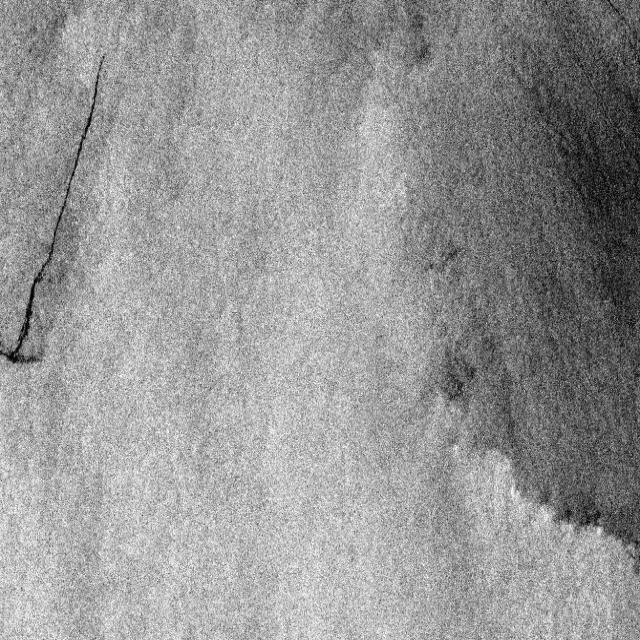look-alike: (540, 72, 638, 326), (418, 330, 488, 418), (558, 481, 616, 546)
oil-spill: (3, 48, 108, 380)
